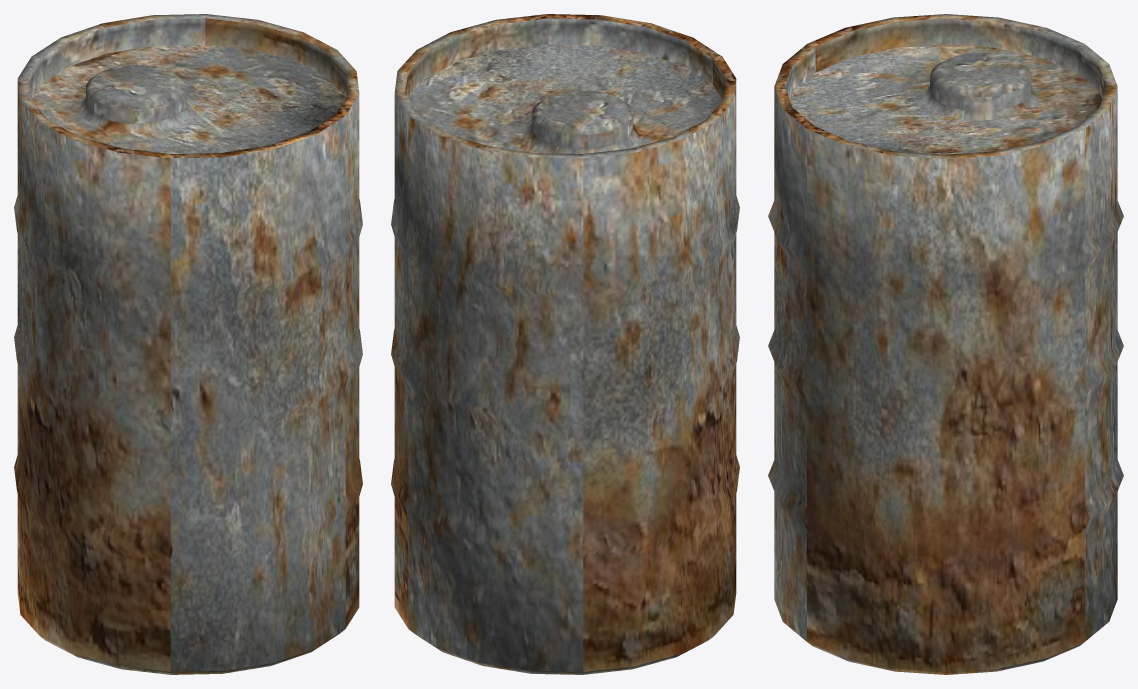
The model's file is BarrelRust1.fbx.
The picture shows the model from 3 angles, left to right: view 1: azimuth 30°, elevation 25°; view 2: azimuth 150°, elevation 25°; view 3: azimuth 270°, elevation 25°; orthographic projection.
Parts seen in each view (by area): view 1: Barrel_Rust:pCylinder1; view 2: Barrel_Rust:pCylinder1; view 3: Barrel_Rust:pCylinder1.
Boxes of the visible parts, <box> form: Barrel_Rust:pCylinder1: <box>14,14,362,674</box>; Barrel_Rust:pCylinder1: <box>391,14,739,674</box>; Barrel_Rust:pCylinder1: <box>768,14,1123,674</box>.
Bounding box in the file's own units: 6.11 × 10 × 6.22.
